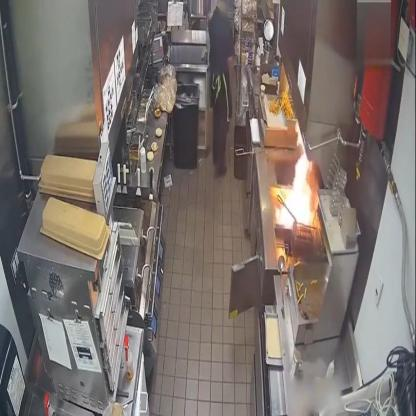fire: (278, 123, 318, 233)
